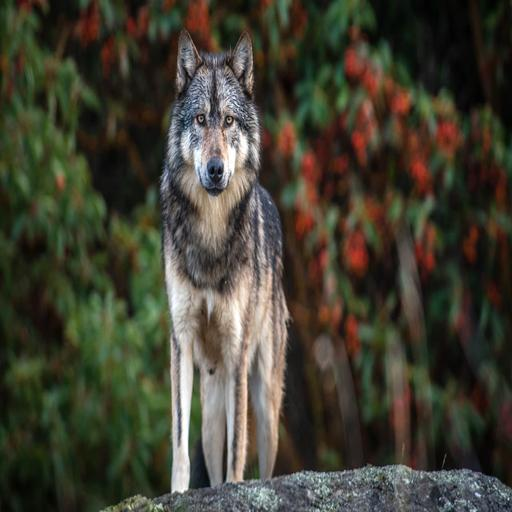Wolf: (148, 27, 293, 496)
